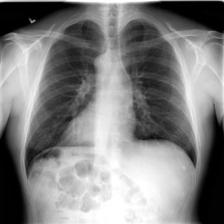normal: (20, 10, 204, 178)
